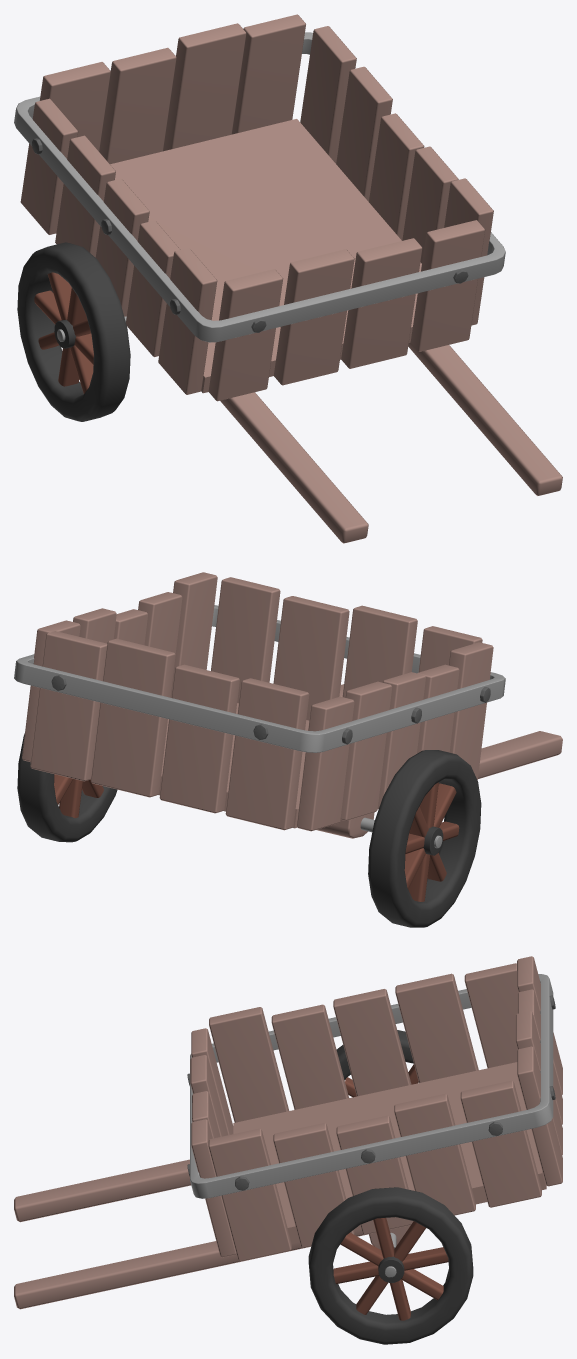
File: Farm_1_Cart_1.glb
3 views of the same model, one above another, from view 1: azimuth 30°, elevation 25°; view 2: azimuth 150°, elevation 25°; view 3: azimuth 270°, elevation 25° (orthographic). The views are drawn at different scales.
Parts seen in each view (by area): view 1: Farm_1_Cart_1; view 2: Farm_1_Cart_1; view 3: Farm_1_Cart_1.
Part boxes in pixels (<box>): Farm_1_Cart_1: <box>14,14,562,543</box>; Farm_1_Cart_1: <box>14,572,562,927</box>; Farm_1_Cart_1: <box>14,956,562,1344</box>.
Bounding box in the file's own units: 1.73 × 1.2 × 2.36.
1 material, 1 textured.
